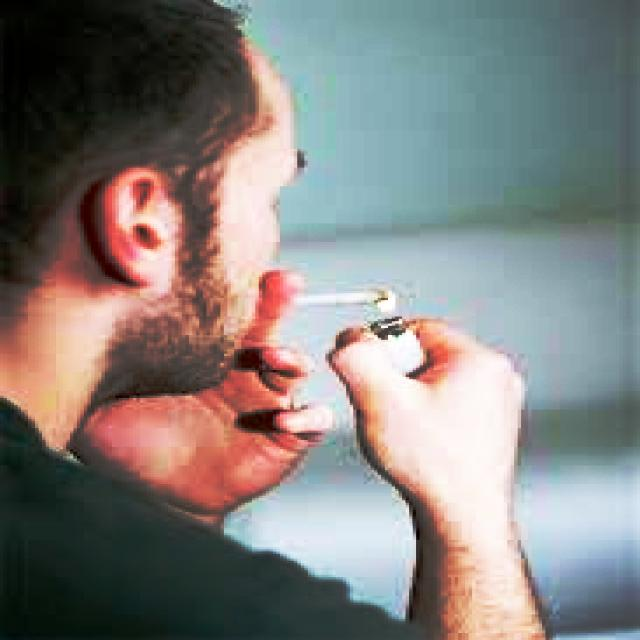api: (368, 280, 403, 315)
